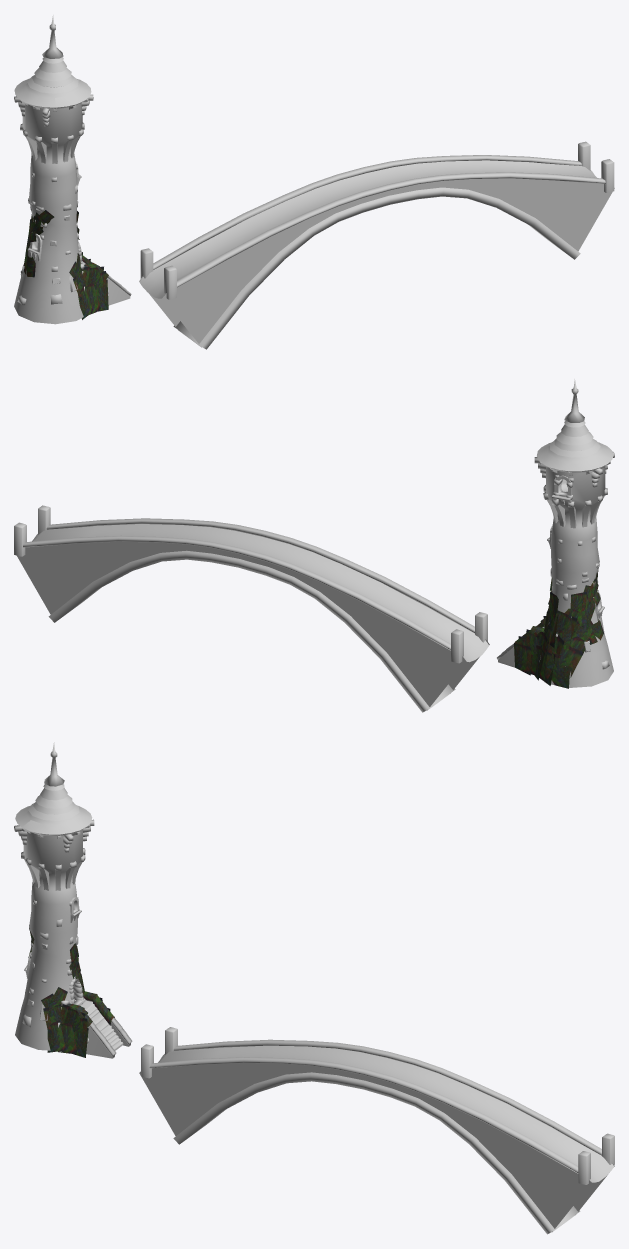
The model's file is MageTower_Lod_01.fbx.
3 views of the same model, one above another, from view 1: azimuth 30°, elevation 25°; view 2: azimuth 150°, elevation 25°; view 3: azimuth 330°, elevation 25° (orthographic).
Parts seen in each view (by area): view 1: Bridge, MageTower, MT_roof, MT_ivy, MT_Brace_Stones; view 2: Bridge, MageTower, MT_ivy, MT_roof, MT_Brace_Stones; view 3: Bridge, MageTower, MT_ivy, MT_roof, MT_Brace_Stones.
Boxes of the visible parts, x1,y1,x2,y2 form: Bridge: [139, 141, 614, 349]; MageTower: [14, 98, 131, 324]; MT_roof: [14, 15, 91, 107]; MT_ivy: [21, 210, 108, 319]; MT_Brace_Stones: [17, 100, 108, 305]; Bridge: [14, 505, 489, 712]; MageTower: [497, 461, 613, 687]; MT_ivy: [514, 570, 603, 688]; MT_roof: [537, 379, 613, 471]; MT_Brace_Stones: [538, 461, 610, 669]; Bridge: [139, 1027, 614, 1234]; MageTower: [15, 824, 132, 1058]; MT_ivy: [25, 930, 114, 1057]; MT_roof: [15, 742, 92, 834]; MT_Brace_Stones: [18, 826, 90, 1051].
Size of the model in its own units: 76.84 by 45.18 by 9.07.
